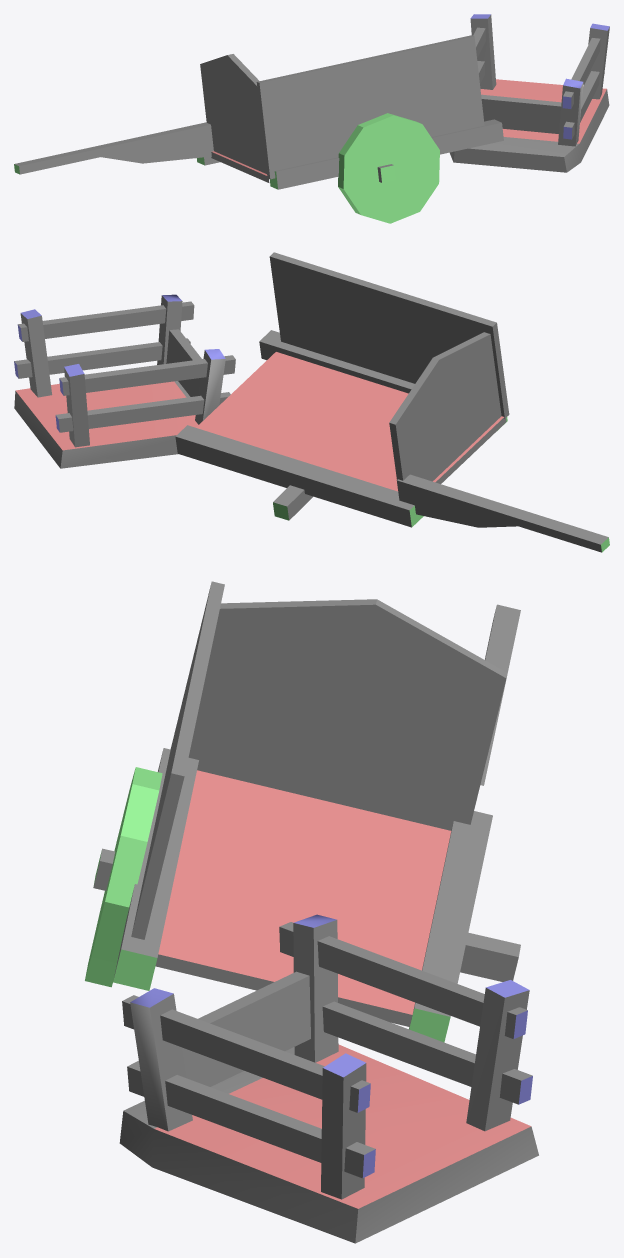
Rendered from Field_Deco_Artifact_S__world_obj08.gltf.
3 views of the same model, one above another, from view 1: azimuth 30°, elevation 25°; view 2: azimuth 150°, elevation 25°; view 3: azimuth 270°, elevation 25° (orthographic). The views are drawn at different scales.
Parts seen in each view (by area): view 1: world_obj08; view 2: world_obj08; view 3: world_obj08.
Boxes of the visible parts, bbox=[...] form: world_obj08: bbox=[14, 14, 609, 223]; world_obj08: bbox=[14, 252, 609, 552]; world_obj08: bbox=[85, 581, 538, 1243].
Bounding box in the file's own units: 1.63 × 0.4197 × 0.5791.
